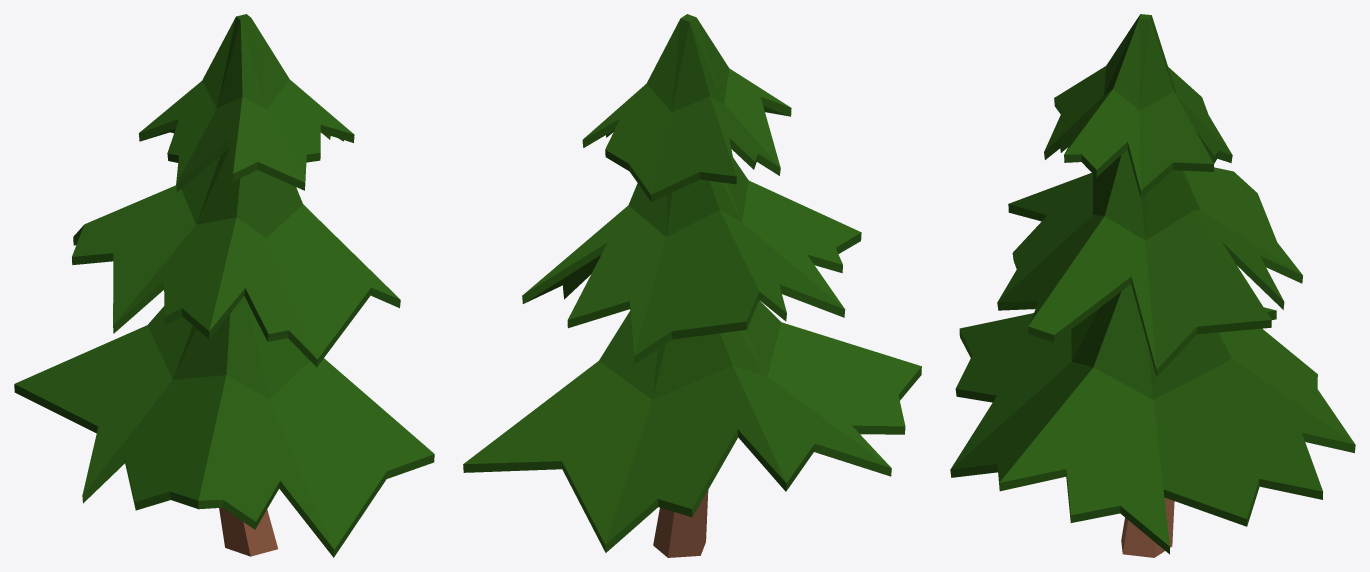
Rendered from tree_3.fbx.
3 views of the same model, side by side, from view 1: azimuth 30°, elevation 25°; view 2: azimuth 150°, elevation 25°; view 3: azimuth 270°, elevation 25° (orthographic).
Visible parts, largest first — view 1: tree_3; view 2: tree_3; view 3: tree_3.
Boxes of the visible parts, x1,y1,x2,y2 form: tree_3: (14,14,434,557); tree_3: (463,14,921,557); tree_3: (950,14,1355,557).
Size of the model in its own units: 294 by 446 by 311.
